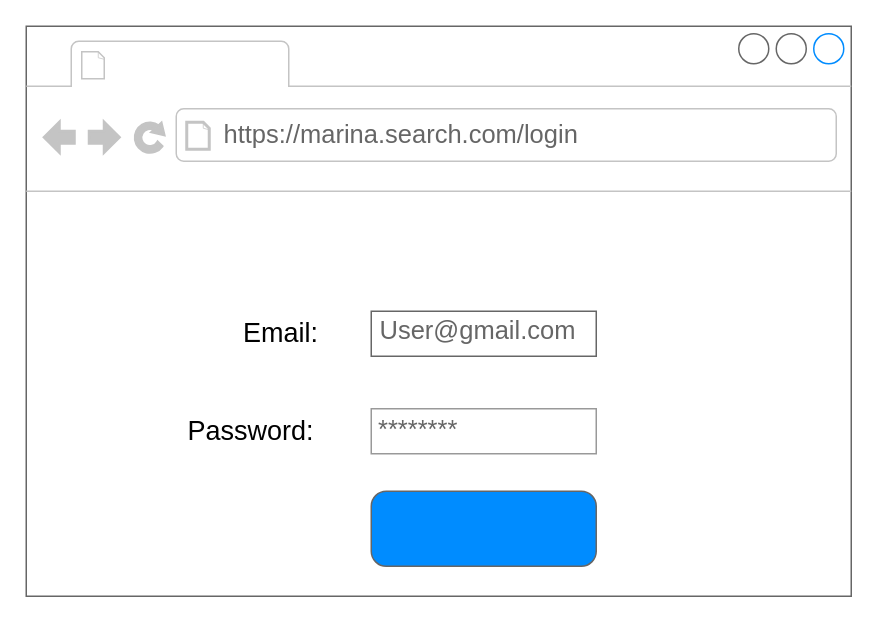
Image size: 878x623. Some labels were removed from this diagram. The shapes that lost their labels are listed below. From the top down, each one's centre as x and y in pixels, then its label:
At [198,63]: "marinasearch".
At [483,528]: "Login".
